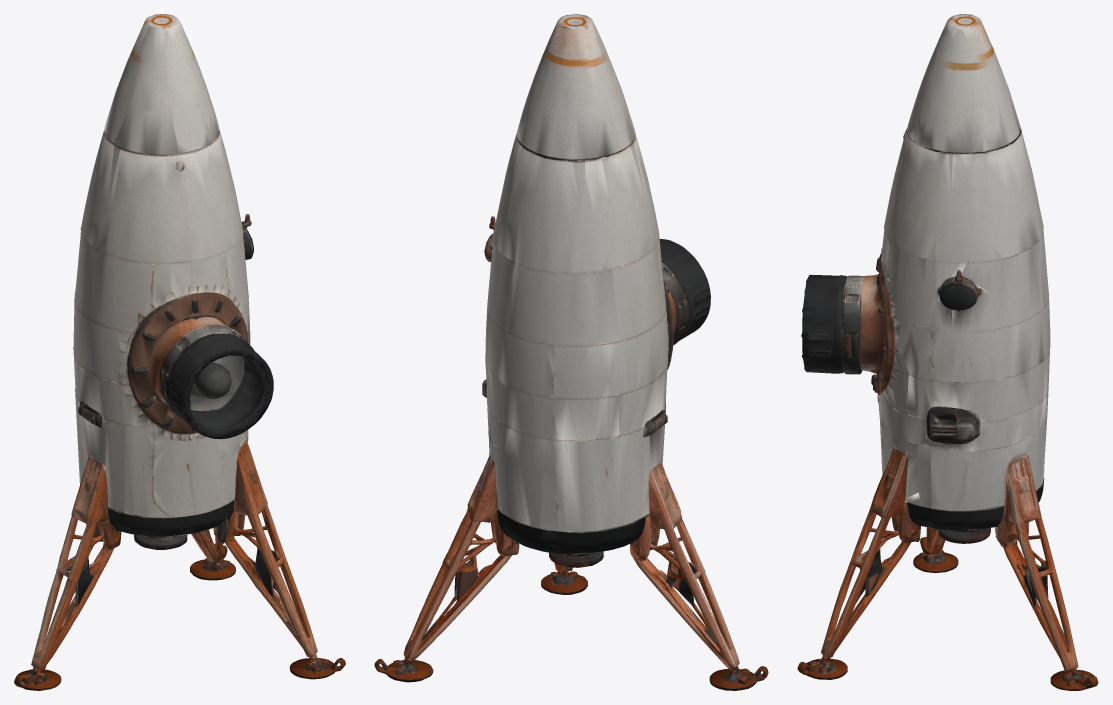
Rendered from mav.glb.
3 views of the same model, side by side, from view 1: azimuth 30°, elevation 25°; view 2: azimuth 150°, elevation 25°; view 3: azimuth 270°, elevation 25° (orthographic). The views are drawn at different scales.
Parts seen in each view (by area): view 1: mesh_node; view 2: mesh_node; view 3: mesh_node.
Part boxes in pixels (box(x1,y1,x2,y2)): mesh_node: box(14, 14, 345, 690); mesh_node: box(374, 14, 768, 690); mesh_node: box(797, 14, 1098, 690).
Bounding box in the file's own units: 5.03 × 10 × 4.46.
1 material, 1 textured.
